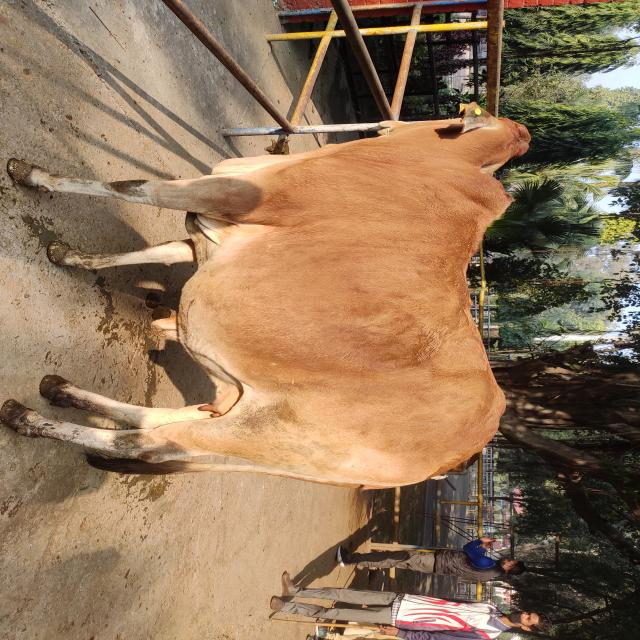cow: (1, 101, 532, 490)
hump: (479, 168, 514, 238)
